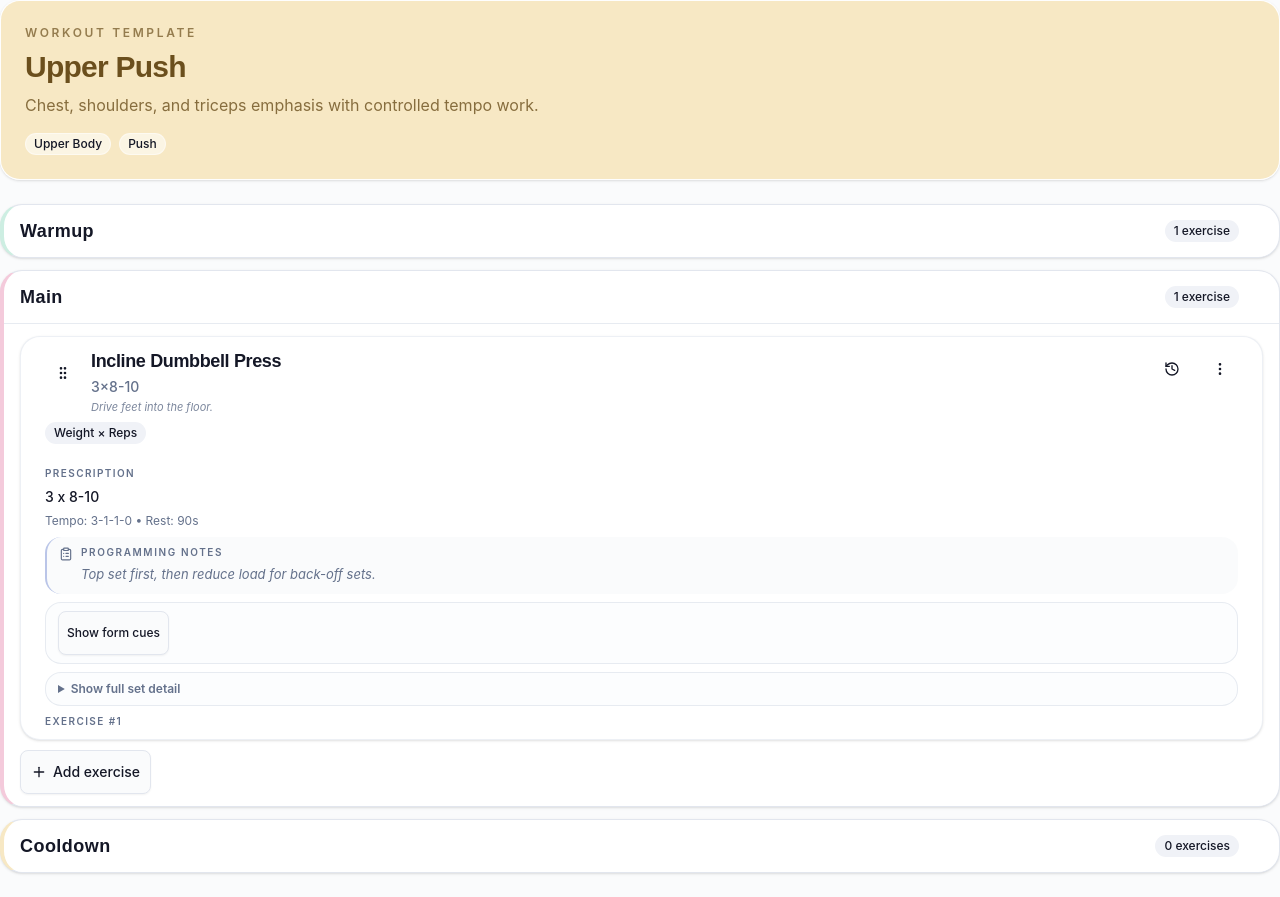
Scenario: WorkoutTemplateDetail › opens exercise detail modal and renders overview plus history tabs
The image size is (1280, 897).
Click the button "Incline Dumbbell Press" at [186, 361], box [91,347,281,375]
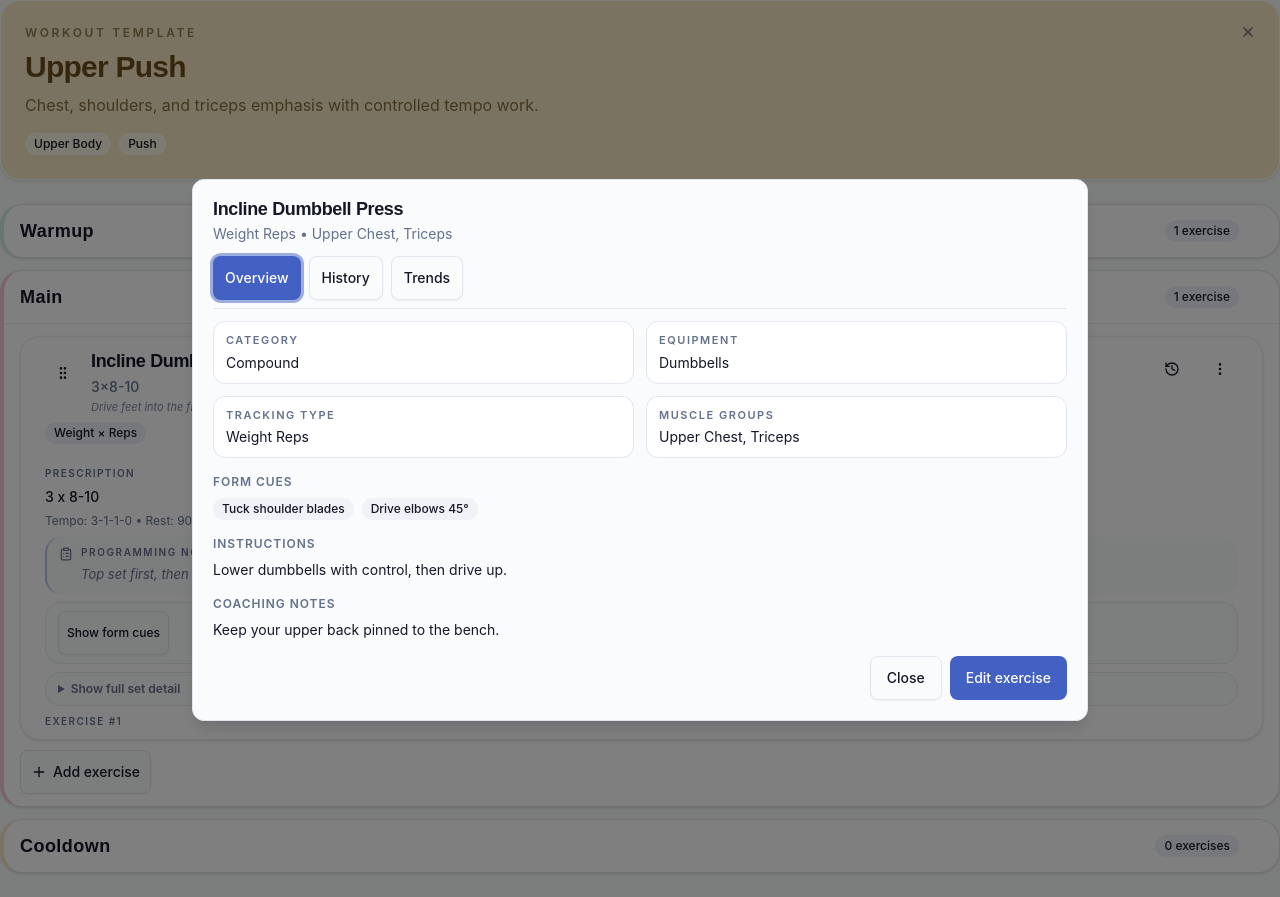
Now the text "Weight Reps • Upper Chest, Triceps" is shown, box [213,225,452,242]
Now the text "Form cues" is shown, box [213,474,293,489]
Now the text "Drive elbows 45°" is shown, box [362,498,478,520]
Click the tab "History" at [346, 278], box [308,256,383,300]
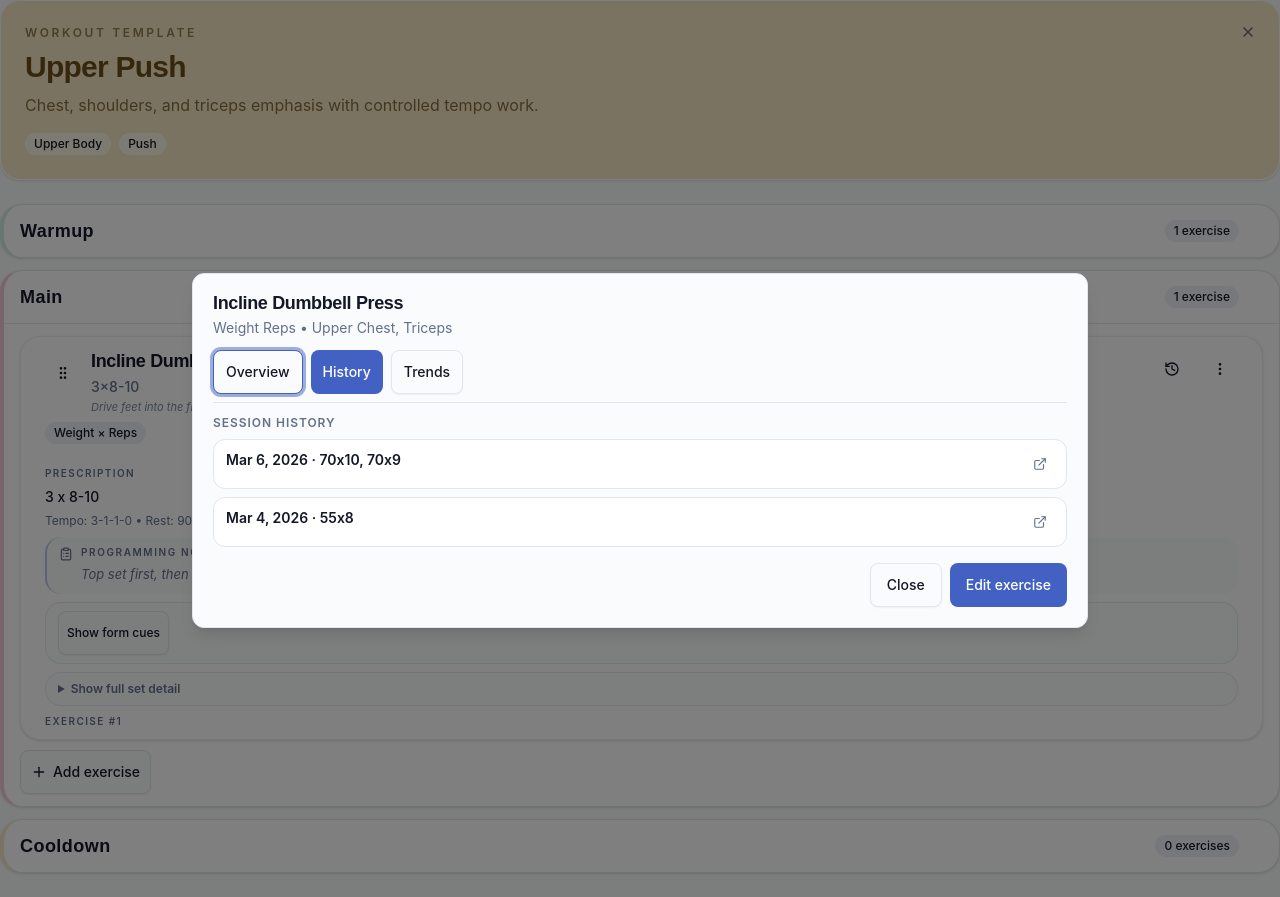
Now the text "Mar 6, 2026 · 70x10, 70x9" is shown, box [226,450,401,470]
